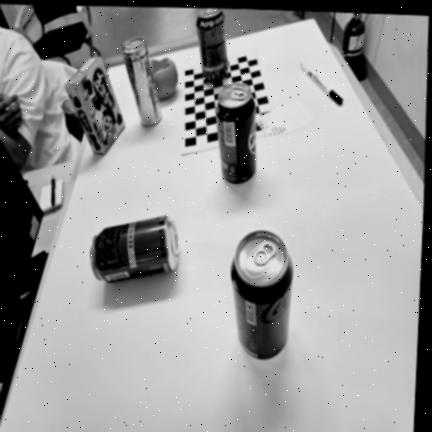can_coke_decaf: (89, 215, 179, 283)
can_coke_zero: (229, 230, 294, 361)
can_pepsi: (214, 80, 257, 181)
